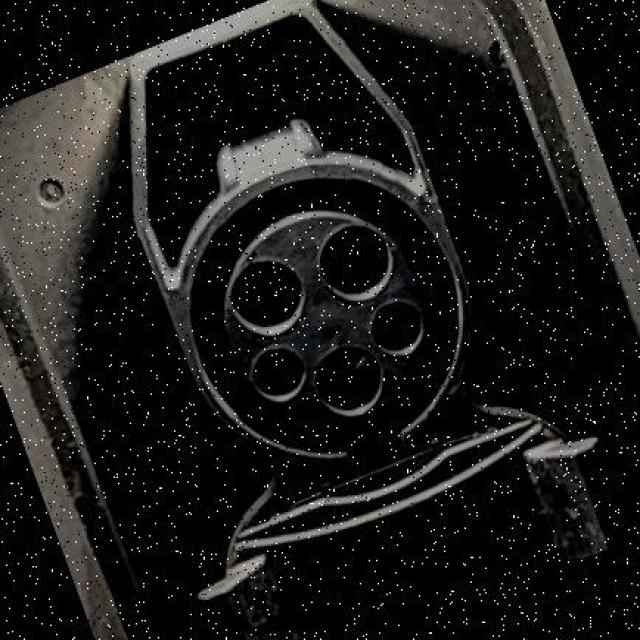Type 1: (171, 188, 499, 442)
